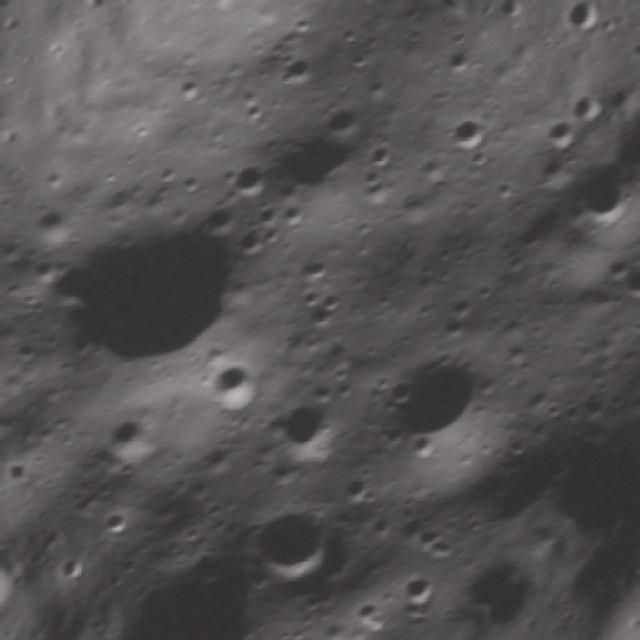crater: (14, 150, 280, 416), (364, 334, 502, 471), (236, 480, 356, 600), (564, 155, 640, 238), (386, 559, 460, 633), (268, 397, 340, 469), (203, 351, 274, 422), (91, 497, 146, 551), (99, 410, 152, 464), (311, 0, 426, 17), (346, 591, 388, 634), (617, 254, 640, 303), (311, 631, 358, 640)
